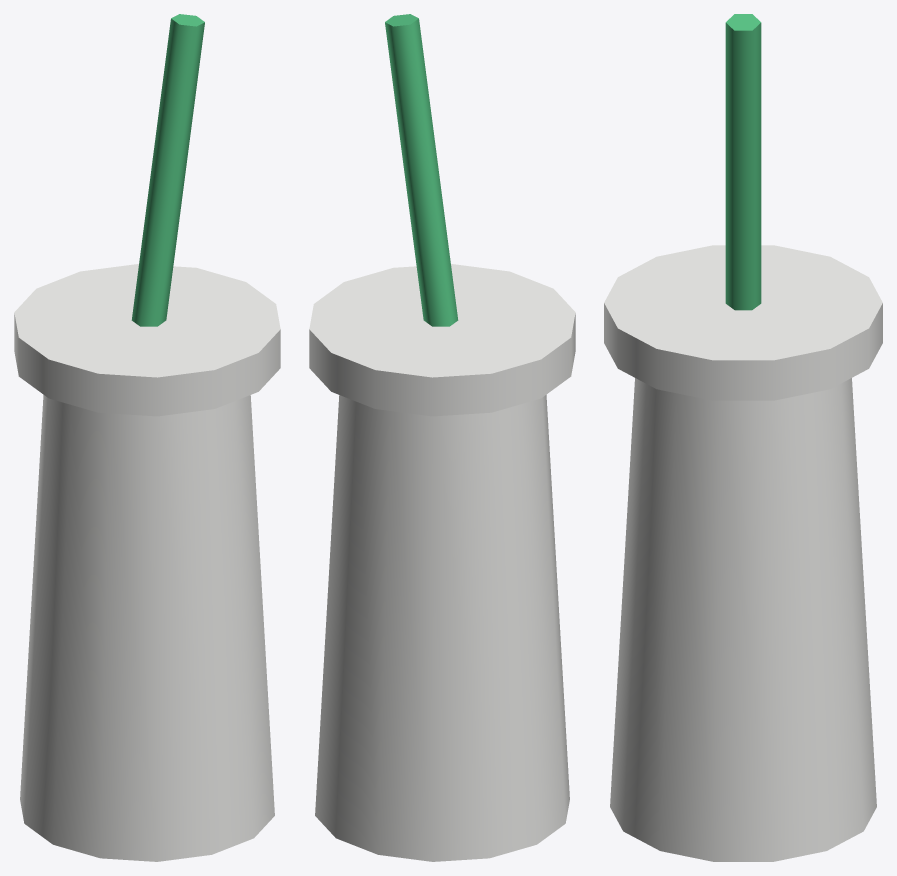
The model's file is smoothie_cup.glb.
3 views of the same model, side by side, from view 1: azimuth 30°, elevation 25°; view 2: azimuth 150°, elevation 25°; view 3: azimuth 270°, elevation 25° (orthographic). The views are drawn at different scales.
Parts seen in each view (by area): view 1: smoothie_cup; view 2: smoothie_cup; view 3: smoothie_cup.
Part boxes in pixels (bbox=[...]): smoothie_cup: bbox=[14, 14, 280, 861]; smoothie_cup: bbox=[309, 14, 575, 861]; smoothie_cup: bbox=[604, 14, 882, 861].
Size of the model in its own units: 0.0916 by 0.3001 by 0.094.
